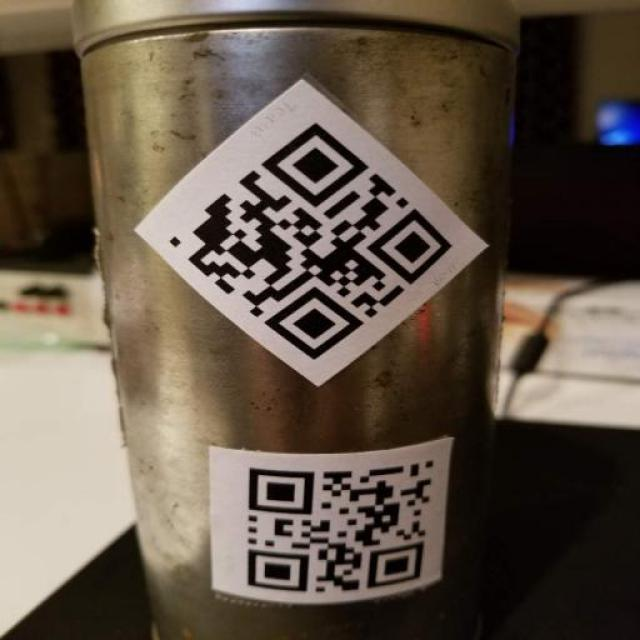QR_CODE: (157, 114, 460, 368), (226, 448, 442, 602)
